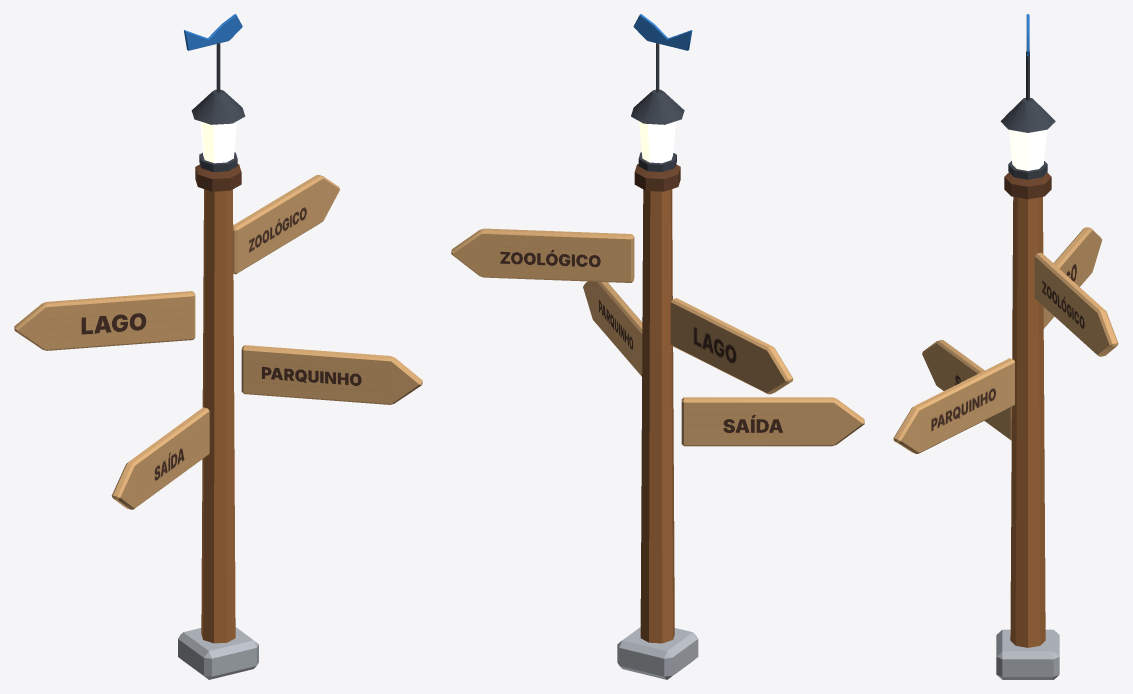
File: placa_direcoes_parque.glb
3 views of the same model, side by side, from view 1: azimuth 30°, elevation 25°; view 2: azimuth 150°, elevation 25°; view 3: azimuth 270°, elevation 25° (orthographic).
Parts seen in each view (by area): view 1: placa_direcoes_parque, passarinho; view 2: placa_direcoes_parque, passarinho; view 3: placa_direcoes_parque.
Boxes of the visible parts, x1,y1,x2,y2 form: placa_direcoes_parque: (14, 43, 422, 679); passarinho: (184, 14, 242, 50); placa_direcoes_parque: (451, 43, 864, 679); passarinho: (633, 14, 692, 50); placa_direcoes_parque: (893, 51, 1118, 679).
Size of the model in its own units: 1.93 by 3.59 by 1.14.
6 materials, 5 textured.
